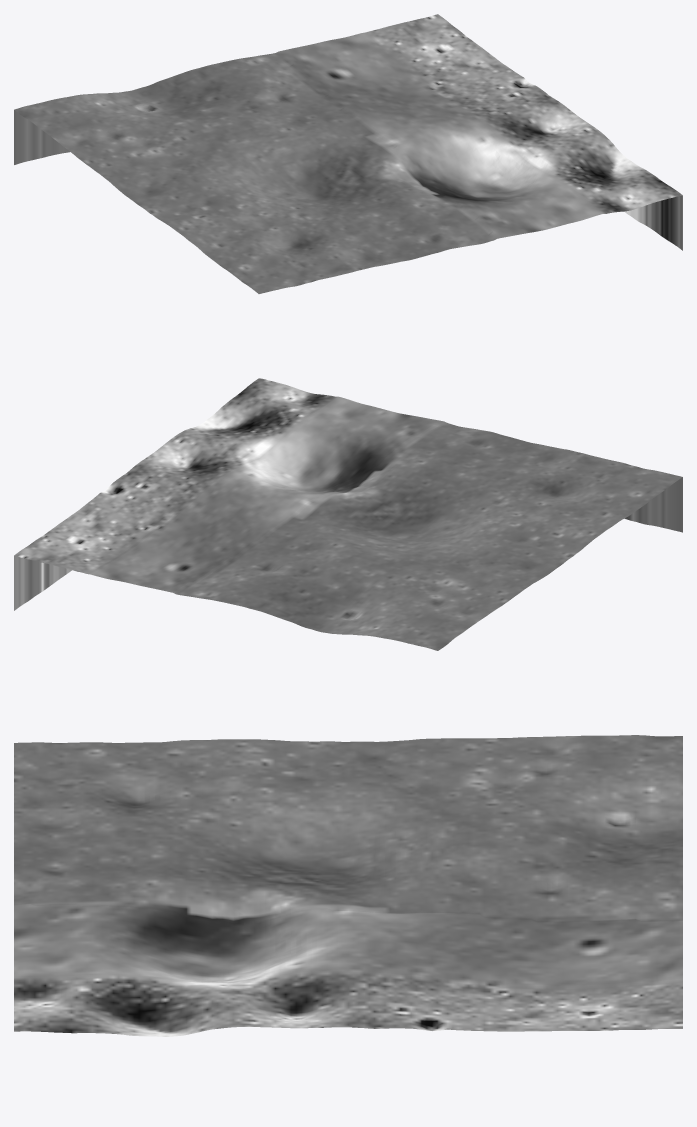
3 views of the same model, one above another, from view 1: azimuth 30°, elevation 25°; view 2: azimuth 150°, elevation 25°; view 3: azimuth 270°, elevation 25° (orthographic). The views are drawn at different scales.
Size of the model in its own units: 638 by 101 by 639.
1 material, 1 textured.
